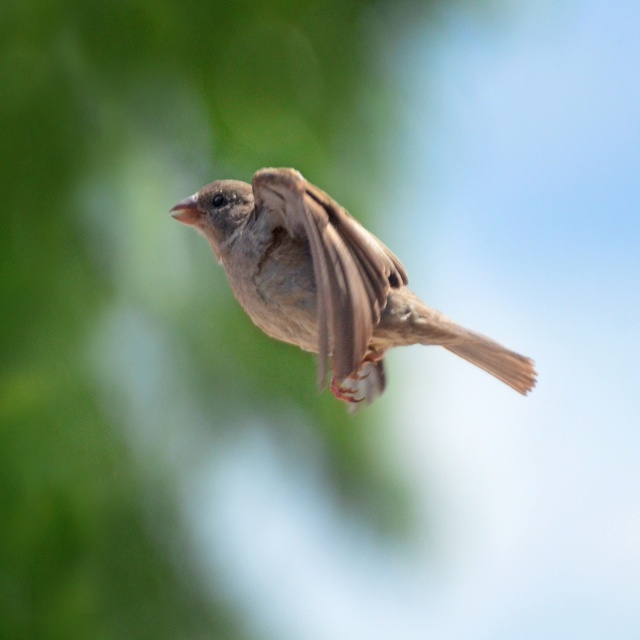Sparrow: (170, 168, 537, 414)
